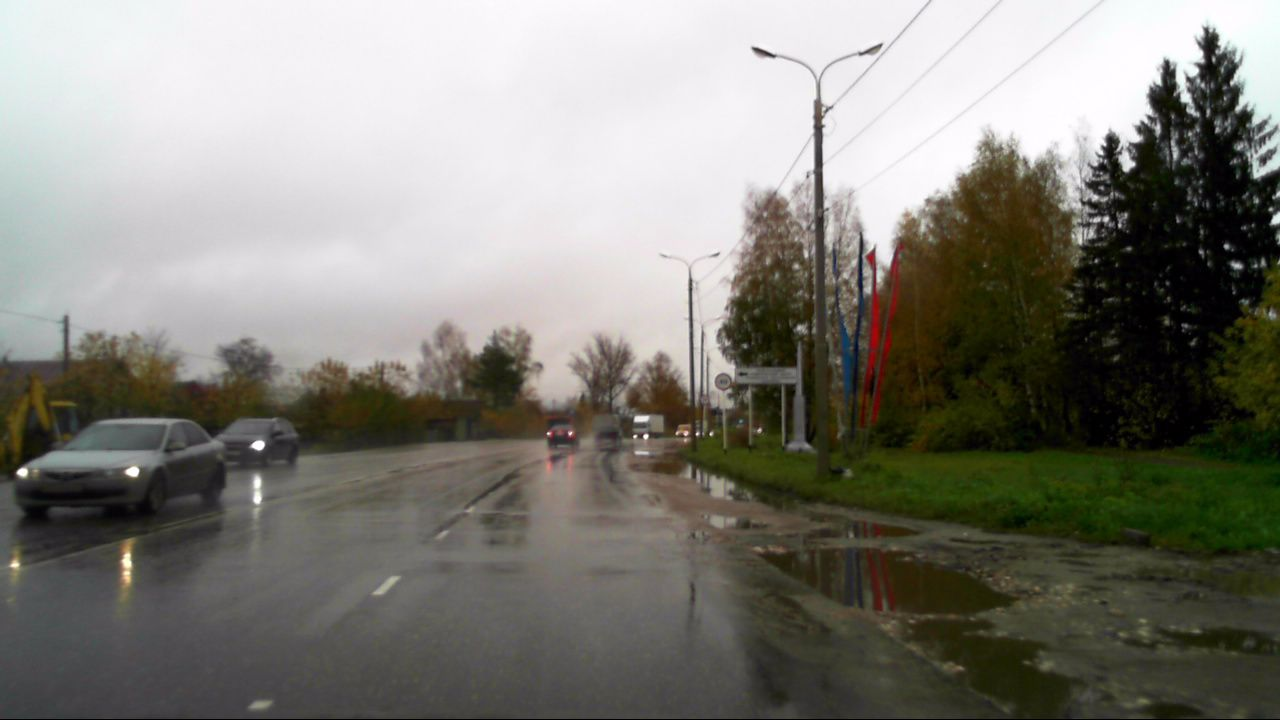speed_warning_40: (713, 372, 733, 390)
